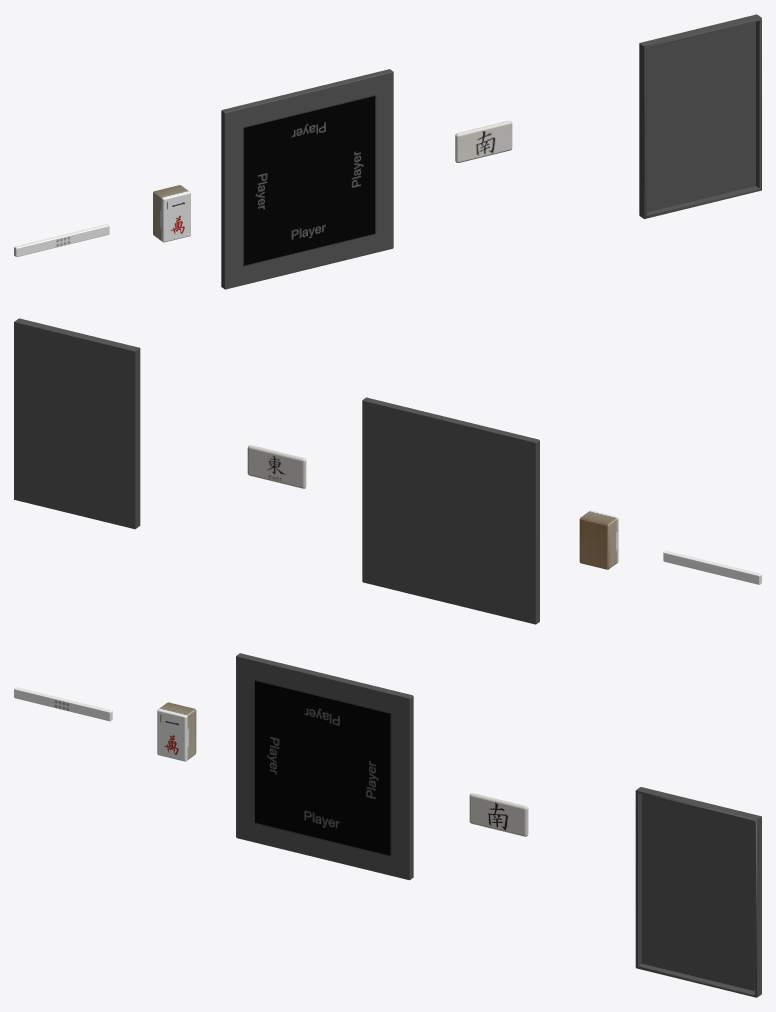
Rendered from models.auto.glb.
The picture shows the model from 3 angles, top to bottom: view 1: azimuth 30°, elevation 25°; view 2: azimuth 150°, elevation 25°; view 3: azimuth 330°, elevation 25°; orthographic projection. The views are drawn at different scales.
Parts seen in each view (by area): view 1: center.org, tray, tile, marker, stick; view 2: center.org, tray, tile, marker, stick; view 3: center.org, tray, tile, marker, stick.
Part boxes in pixels (box(x1,y1,x2,y2)): center.org: box(221, 69, 393, 289); tray: box(639, 14, 761, 218); tile: box(153, 185, 190, 242); marker: box(455, 121, 512, 162); stick: box(14, 224, 109, 257); center.org: box(362, 397, 539, 624); tray: box(14, 318, 140, 529); tile: box(579, 510, 618, 569); marker: box(247, 445, 306, 488); stick: box(663, 550, 761, 584); center.org: box(236, 653, 413, 880); tray: box(635, 787, 761, 997); tile: box(157, 702, 196, 761); marker: box(469, 793, 528, 836); stick: box(14, 687, 112, 721).
Bounding box in the file's own units: 156 × 39.28 × 7.39.
Materials: 6 (5 with a texture image).
